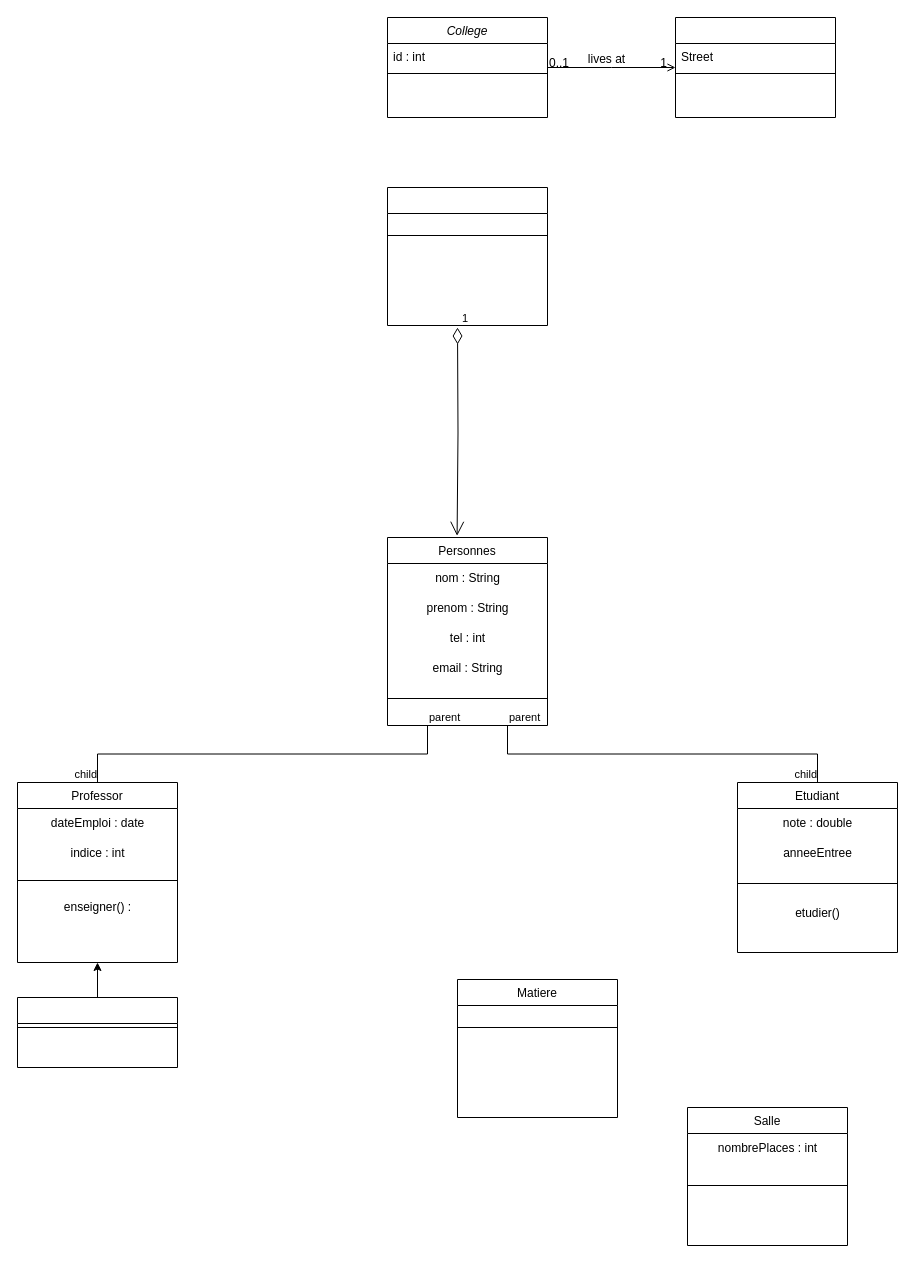
The diagram is 915 pixels wide and 1263 high, and some of its shapes have lost their labels. The shapes that lost their labels are listed below. From the top down, each one's box as (x1, y1, x2, y2) in pixels, then its label:
(674, 16, 836, 118): Site Web
(386, 186, 548, 326): Departement
(16, 996, 178, 1068): responsable
